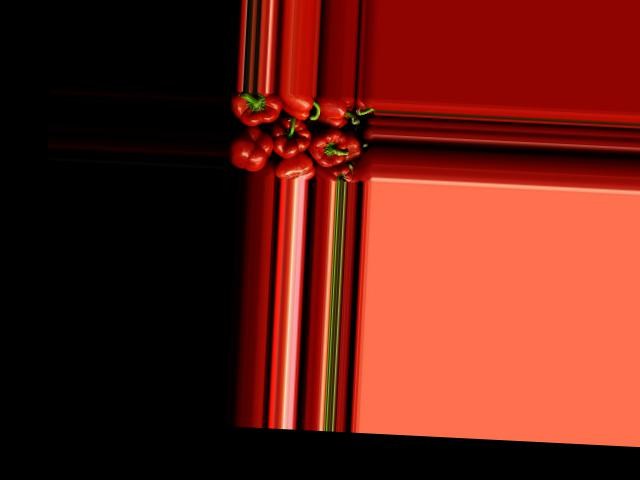bell_pepper: (273, 154, 314, 179)
